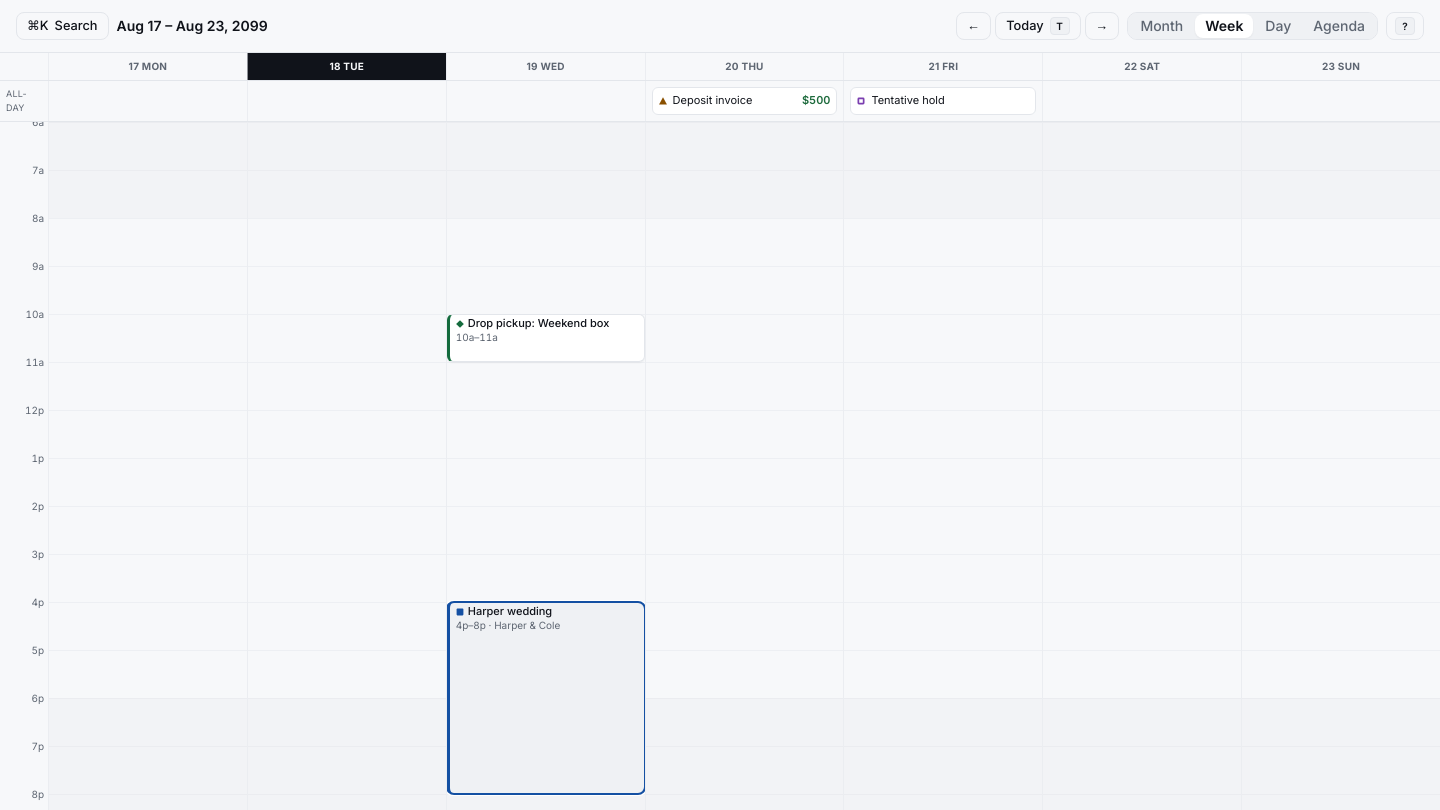
Scenario: ⌘K never stacks a second modal › supersedes an open peek instead of opening over it
Click the link "Harper wedding 4p–8p · Harper & Cole".
click(546, 698)  # box 447,602 -> 645,794
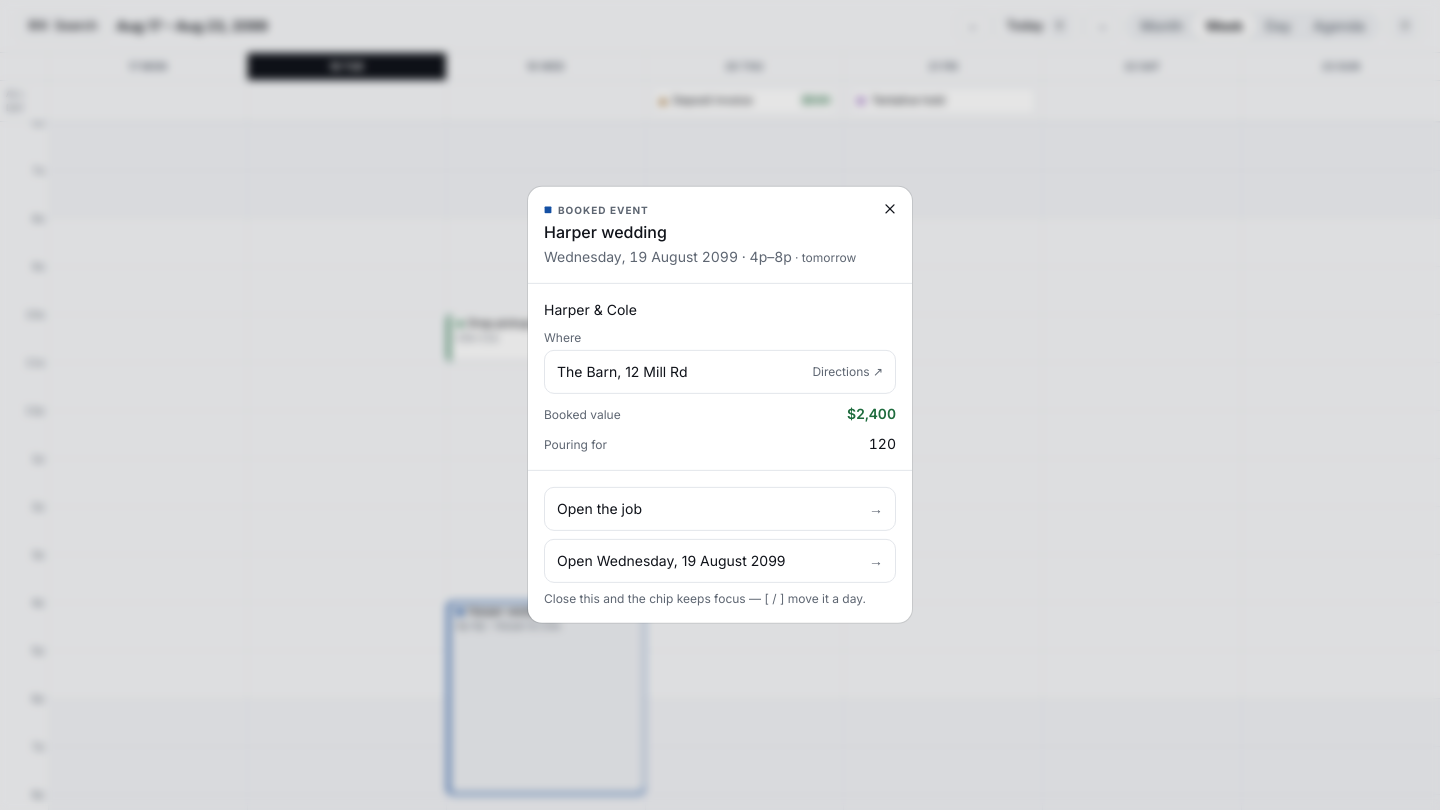
Expected: the number of dialogs is 1, 528,187 -> 912,623
Press k
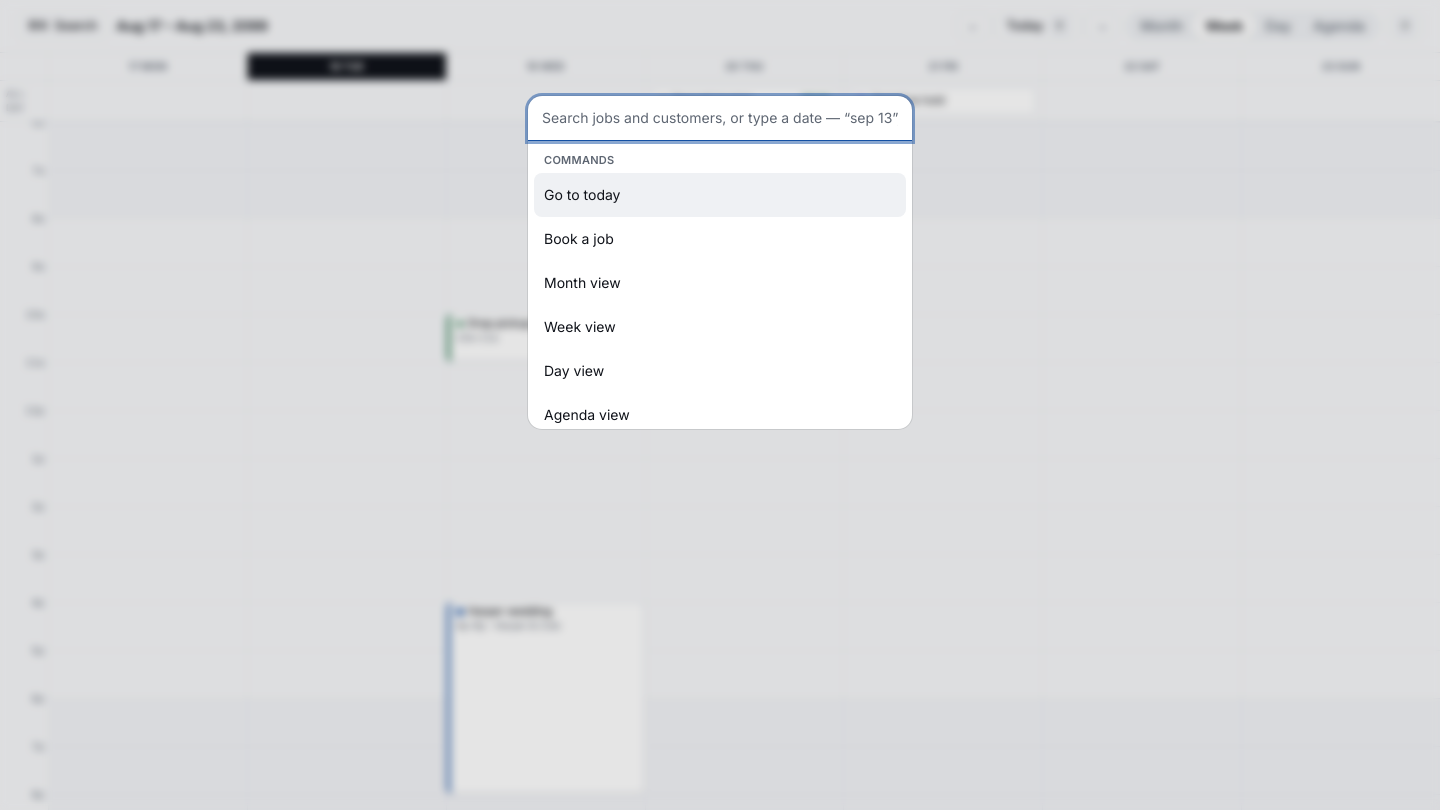
Expected: the dropdown named "Search jobs, customers and dates" is shown, 528,96 -> 912,141
Expected: the number of dialogs is 1, 528,96 -> 912,429
